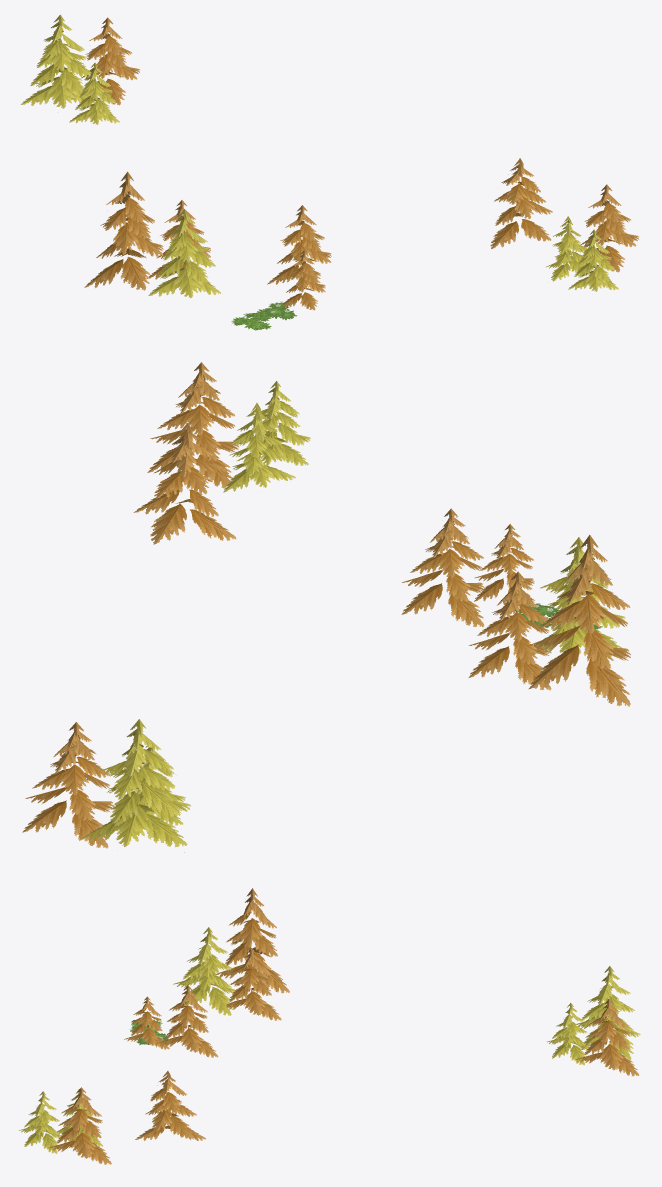
The model's file is area_08_30.fbx.
3 views of the same model, one above another, from view 1: azimuth 30°, elevation 25°; view 2: azimuth 150°, elevation 25°; view 3: azimuth 270°, elevation 25° (orthographic). The views are drawn at different scales.
Parts seen in each view (by area): view 1: area_08_30; view 2: area_08_30; view 3: area_08_30.
Boxes of the visible parts, x1,y1,x2,y2 form: area_08_30: (21, 14, 638, 330); area_08_30: (22, 362, 630, 852); area_08_30: (19, 888, 640, 1164).
Size of the model in its own units: 34.66 by 8.96 by 46.14.
